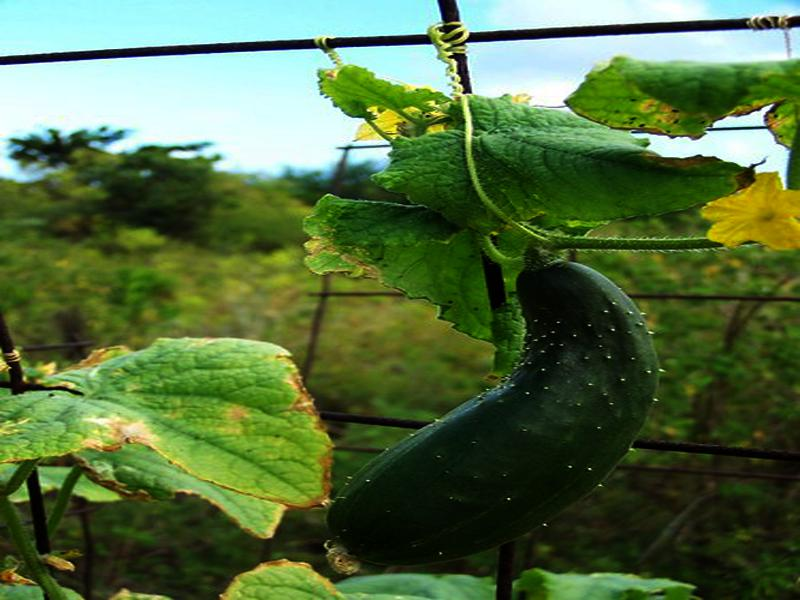Cucumber: (322, 257, 655, 566)
